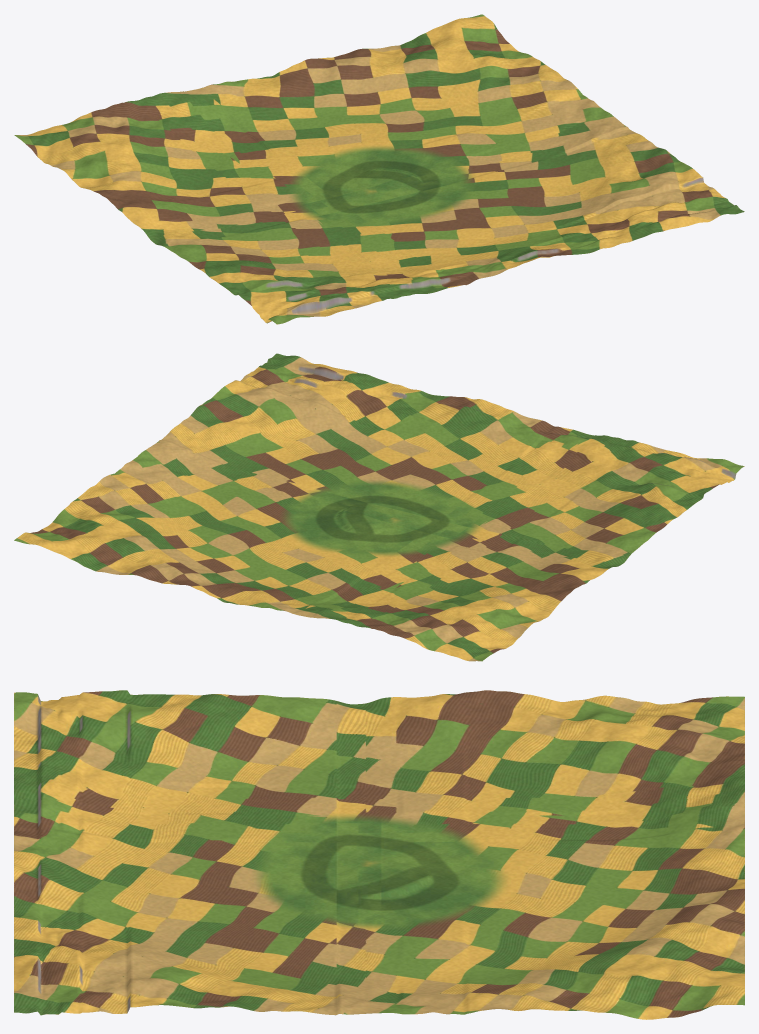
The model's file is dress_the_crossroads_terrain.glb.
The picture shows the model from 3 angles, top to bottom: view 1: azimuth 30°, elevation 25°; view 2: azimuth 150°, elevation 25°; view 3: azimuth 270°, elevation 25°; orthographic projection. The views are drawn at different scales.
Parts seen in each view (by area): view 1: ground; view 2: ground; view 3: ground.
Boxes of the visible parts, x1=… form: ground: x1=14, y1=14, x2=744, y2=324; ground: x1=14, y1=353, x2=744, y2=661; ground: x1=14, y1=690, x2=744, y2=1019.
Size of the model in its own units: 756 by 31.91 by 735.
Materials: 1 (1 with a texture image).
